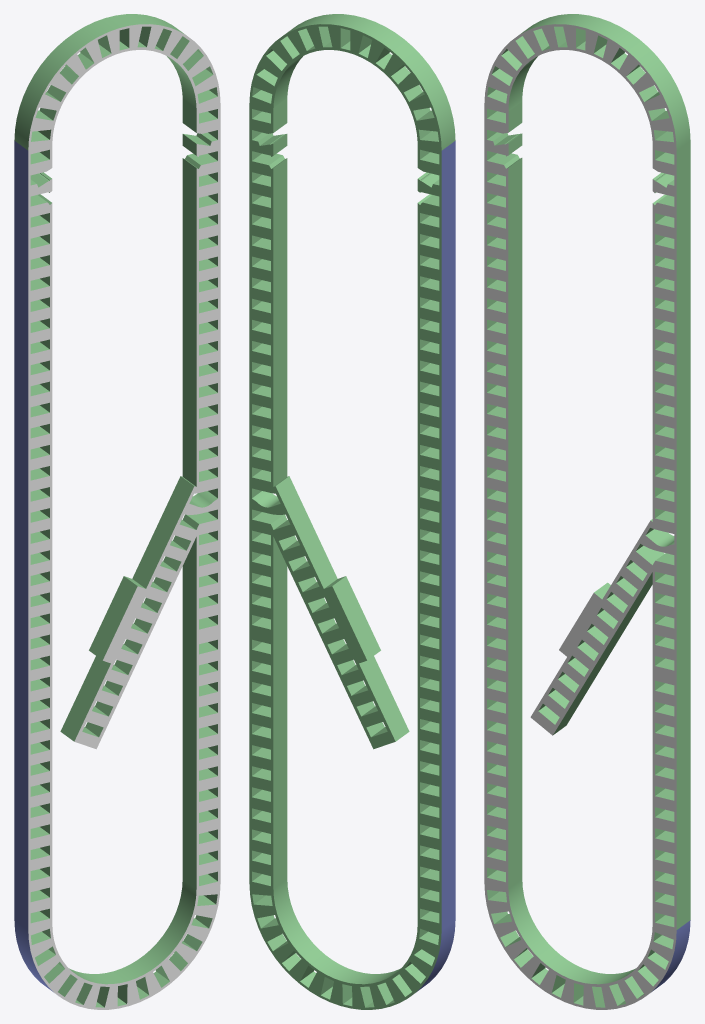
Rendered from trilhos -D -.gltf.
3 renders of one model, left to right at view 1: azimuth 30°, elevation 25°; view 2: azimuth 150°, elevation 25°; view 3: azimuth 330°, elevation 25°, orthographic.
Visible parts, largest first — view 1: trilhos v13; view 2: trilhos v13; view 3: trilhos v13.
Boxes of the visible parts, bbox=[...] form: trilhos v13: bbox=[14, 14, 220, 1009]; trilhos v13: bbox=[249, 14, 455, 1009]; trilhos v13: bbox=[484, 14, 690, 1009].
Bounding box in the file's own units: 0.03 × 0.1462 × 0.00375.
